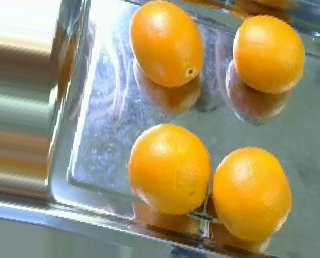Orange: (128, 124, 209, 216), (212, 147, 292, 240), (130, 2, 204, 87), (233, 14, 305, 94)
